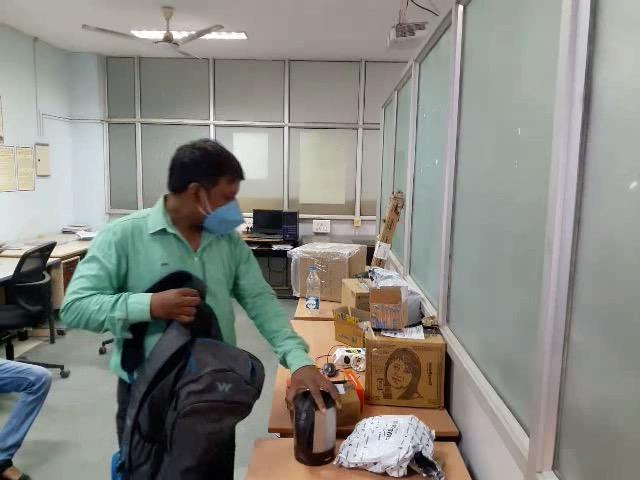shoplifting: (64, 257, 346, 480)
